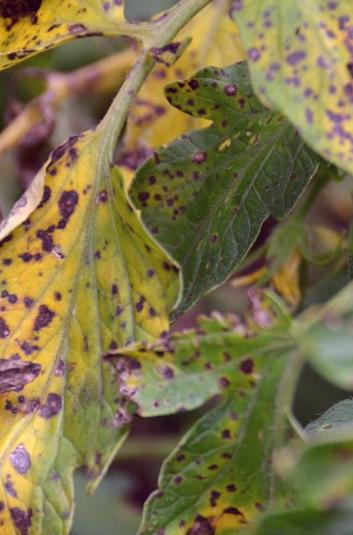Tomato Septoria leaf spot: (0, 114, 177, 535), (126, 289, 335, 535), (243, 0, 353, 198), (0, 0, 142, 92)
